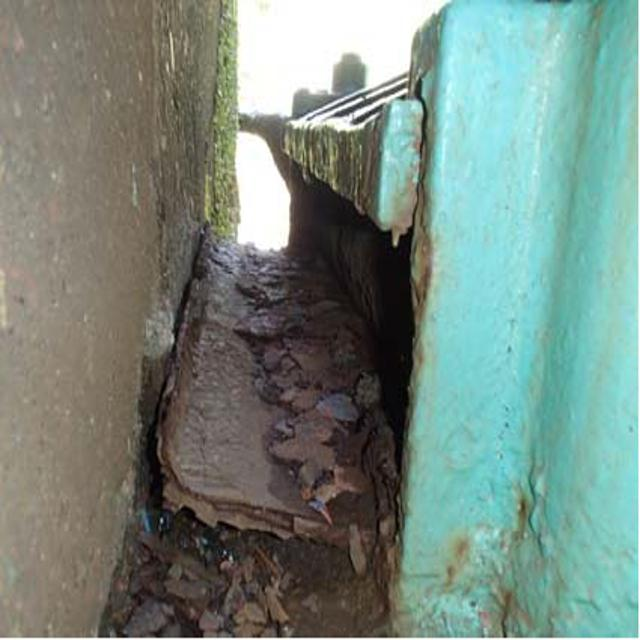corrosion: (173, 128, 433, 603)
